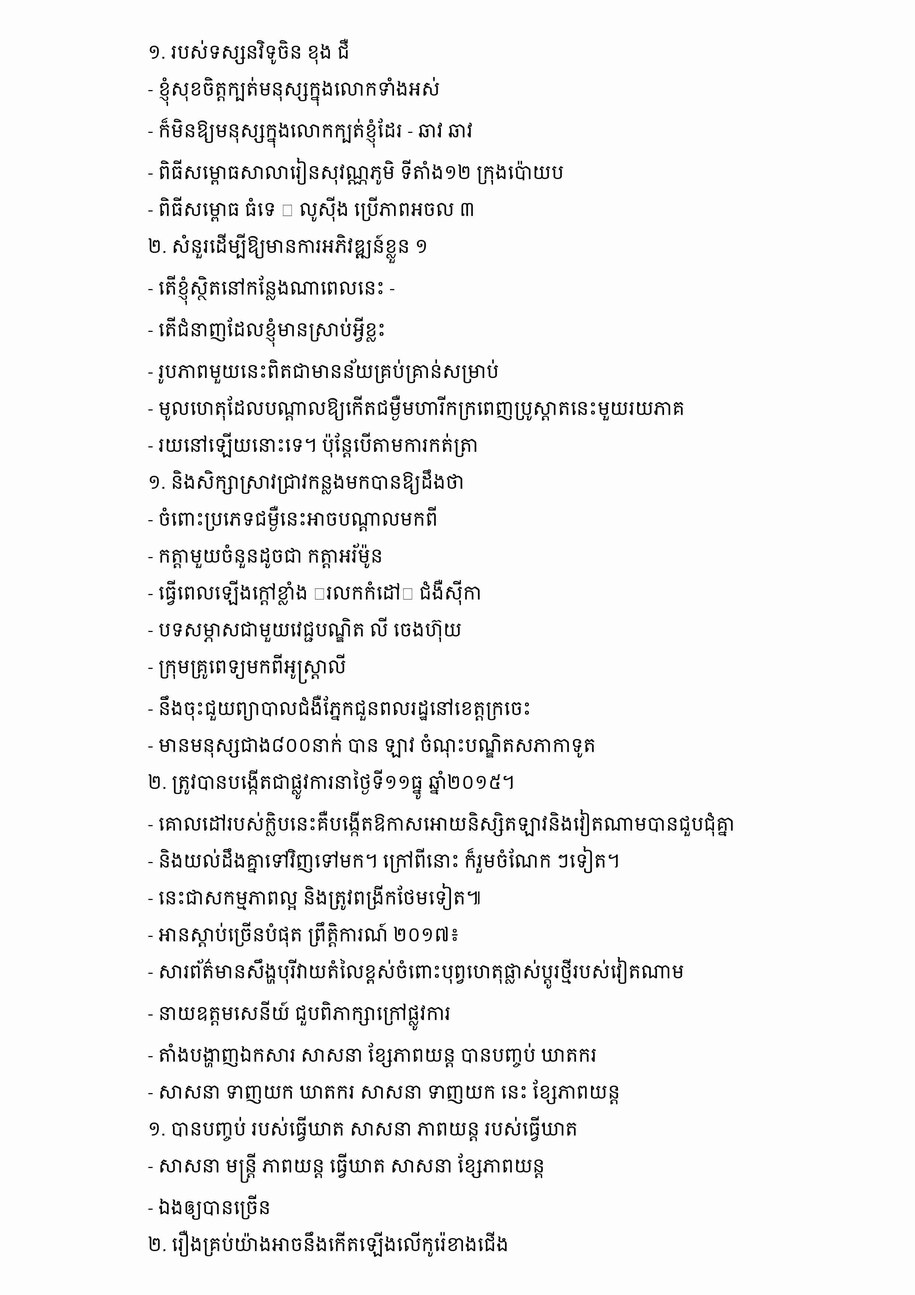text: (148, 957, 689, 989), (148, 809, 740, 837), (148, 395, 690, 421), (148, 846, 625, 873), (148, 1079, 625, 1105), (148, 1153, 550, 1183), (148, 1042, 602, 1068), (148, 769, 520, 800), (148, 158, 569, 185), (148, 733, 601, 758), (148, 1116, 583, 1141), (148, 695, 536, 721), (148, 118, 478, 148), (148, 1230, 514, 1257), (148, 1000, 456, 1031), (148, 358, 504, 384), (148, 883, 486, 910), (148, 233, 433, 264), (148, 432, 483, 458), (148, 196, 480, 222), (148, 77, 445, 106), (148, 580, 487, 605), (148, 469, 469, 495), (148, 617, 467, 642), (148, 922, 465, 947), (148, 506, 443, 532), (148, 275, 400, 305), (148, 317, 391, 347), (148, 543, 388, 569), (148, 654, 351, 684), (148, 39, 355, 65), (148, 1195, 276, 1220)
